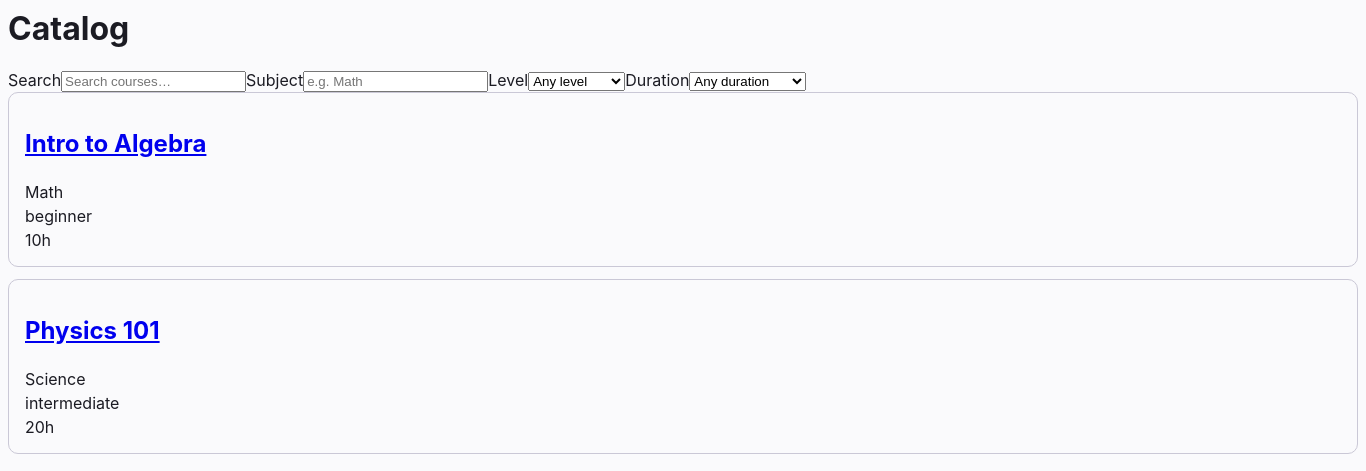
Scenario: CatalogPage › shows the empty-state message and 'Clear filters' resets and re-fetches unfiltered (AC #5)
This screenshot has width=1366, height=471.
Expected: the link "Intro to Algebra" is shown, [25,129,206,158]
Step 1. Type "Nonexistent" into the field with placeholder "e.g. Math" → (396, 81), box [303,71,488,92]
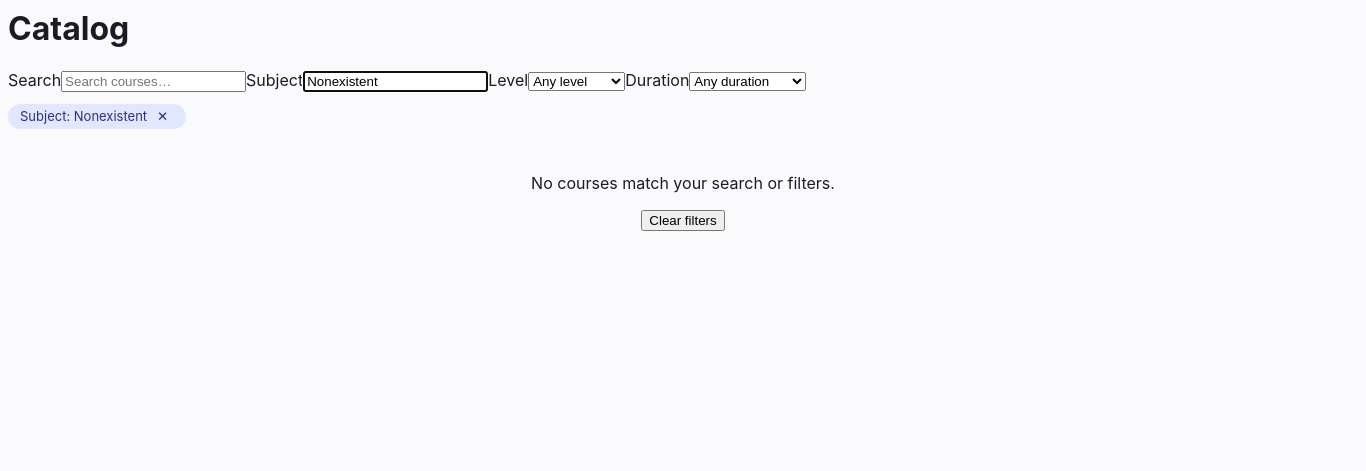
Result: the text "No courses match your search or filters." is shown at [531,173,835,193]
Step 2. Click the button "Clear filters" → (683, 220), box [641,210,725,231]
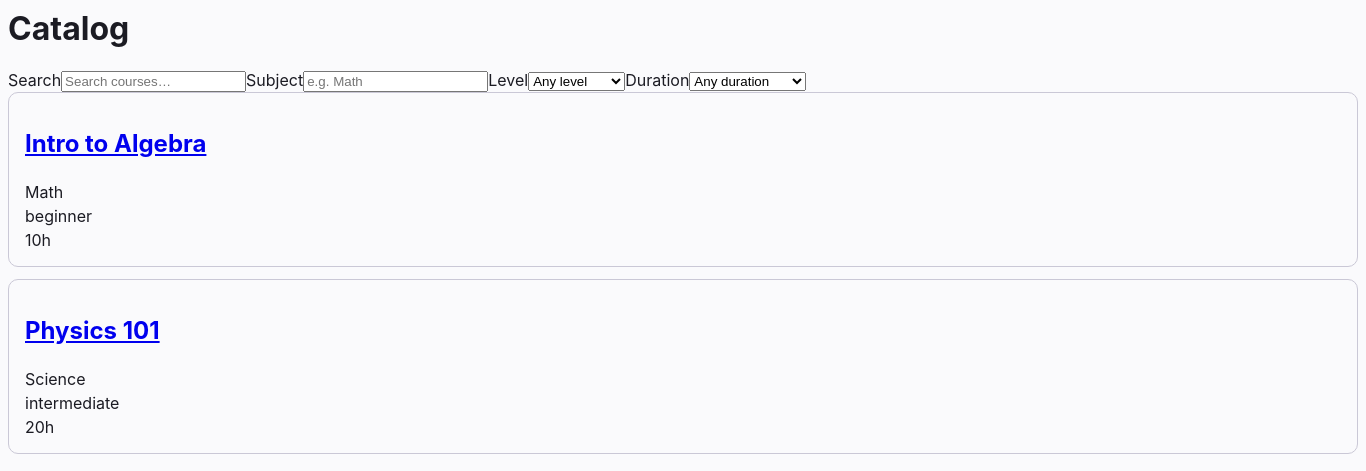
Result: the link "Intro to Algebra" is shown at [25,129,206,158]
